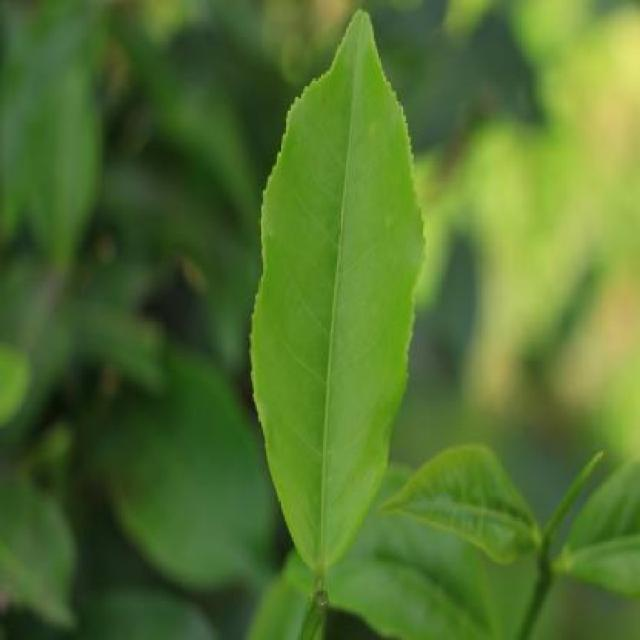Tea leaf: (248, 12, 435, 580)
